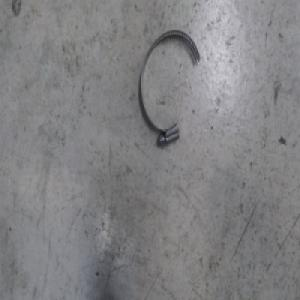AdjustableClamp: (138, 28, 201, 148)
